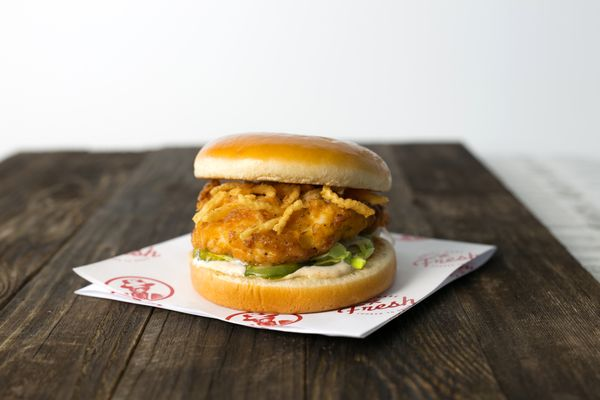soup: (189, 131, 397, 313)
